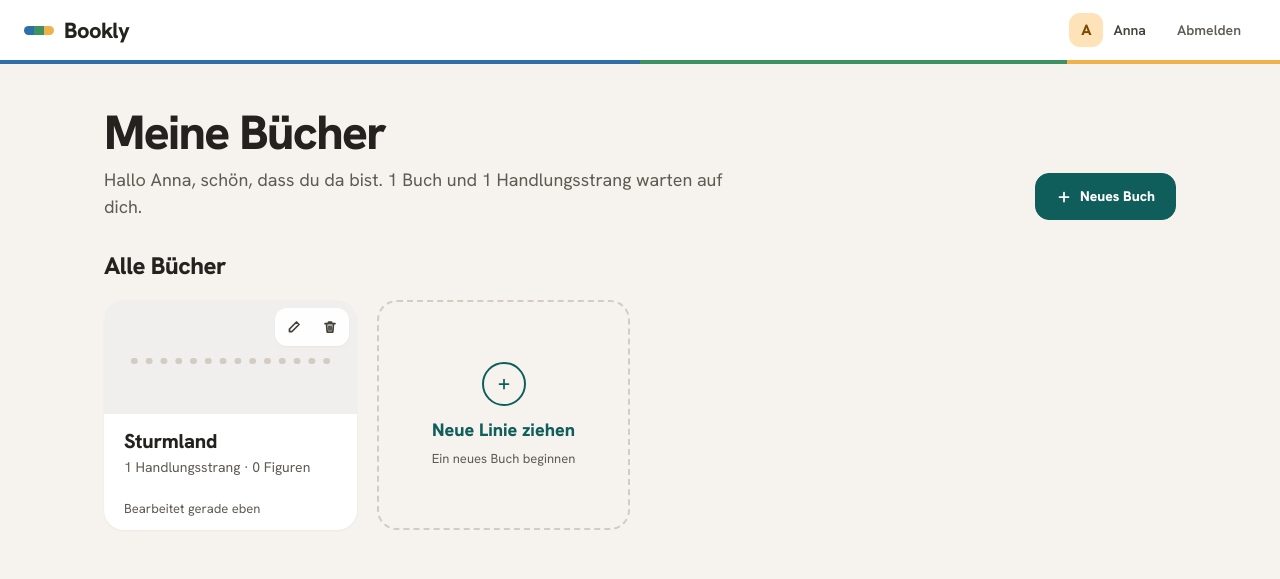
Test: BookListPage › renames a book inline and saves on blur
Click the button named "Buch „Sturmland“ umbenennen" at (294, 327), box [277,310,311,344]
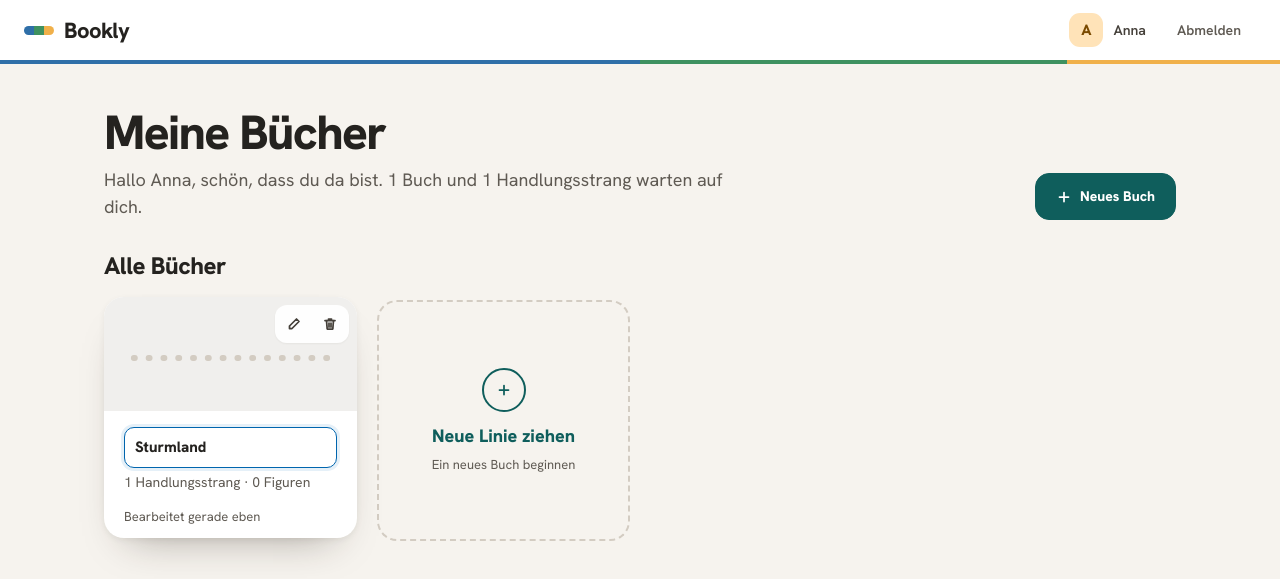
Replace the text in the field named "Titel Buch Sturmland" with "Nebelland" at (230, 448), box [124,427,337,468]
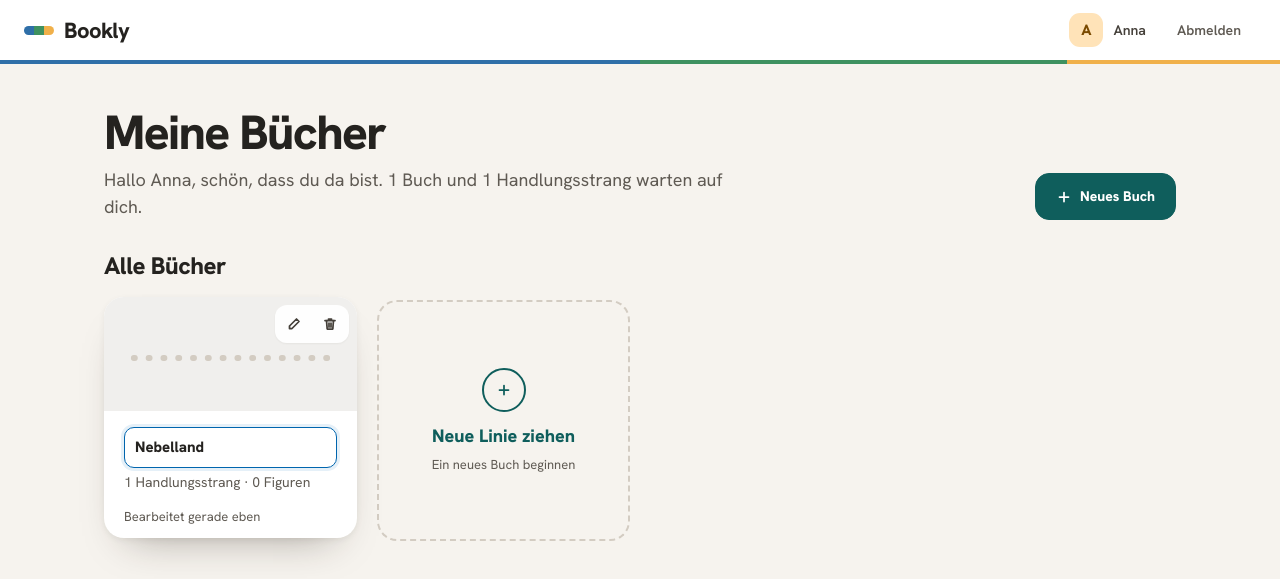
Press Tab
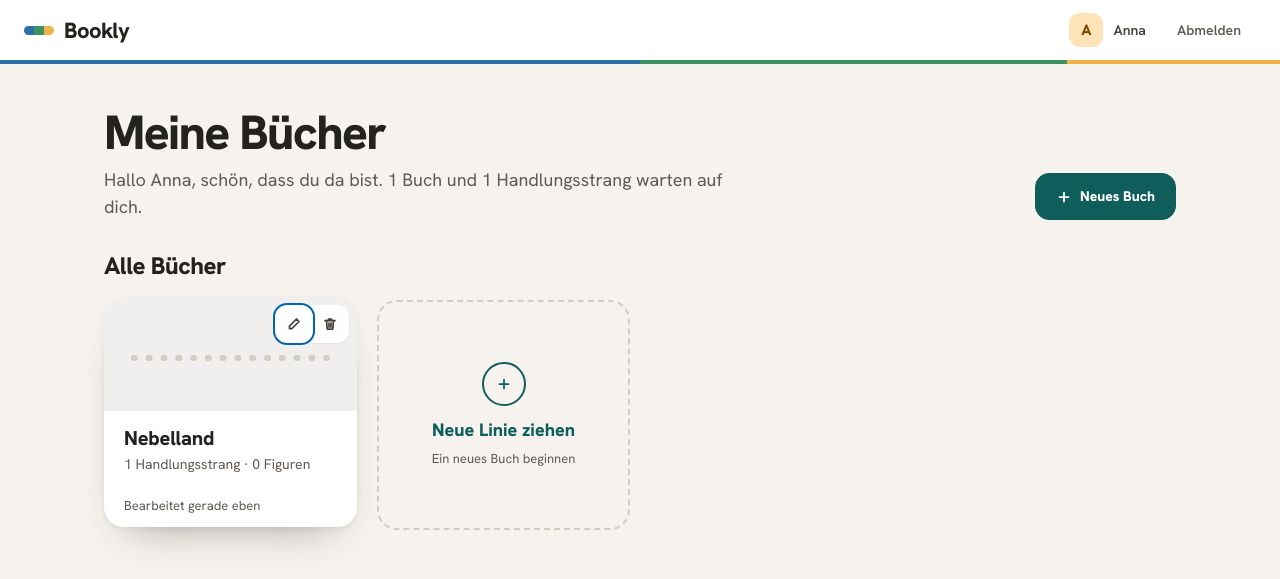
Check: the link "Nebelland" is shown, box [124,425,214,451]
